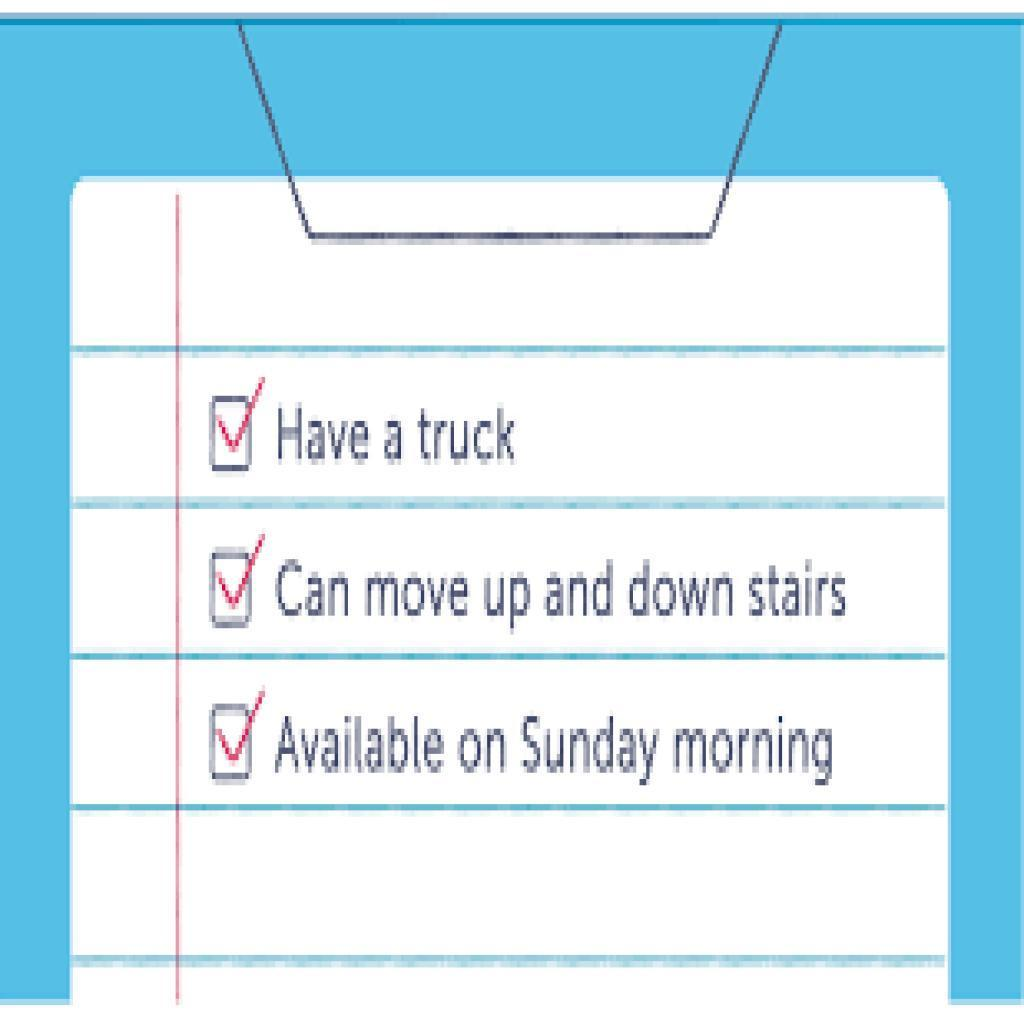checkbox: (210, 398, 251, 468), (212, 551, 252, 622), (214, 707, 251, 777)
